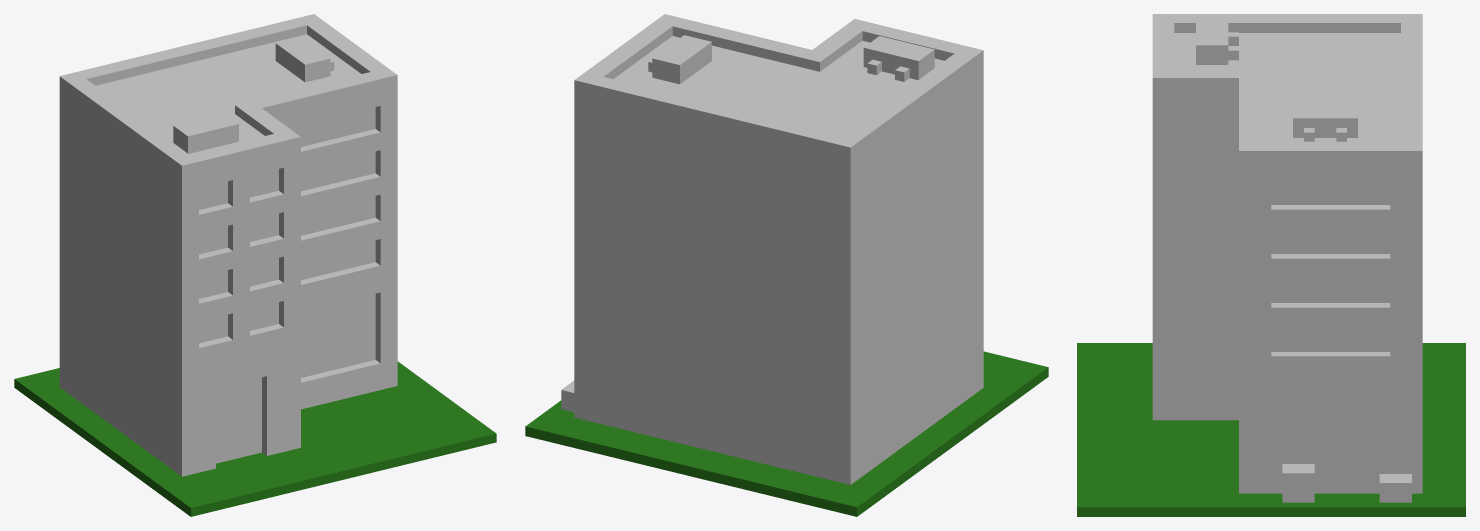
3 views of the same model, side by side, from view 1: azimuth 30°, elevation 25°; view 2: azimuth 150°, elevation 25°; view 3: azimuth 270°, elevation 25° (orthographic). The views are drawn at different scales.
Visible parts, largest first — view 1: building_3; view 2: building_3; view 3: building_3.
Boxes of the visible parts, x1=… form: building_3: x1=14, y1=14, x2=496, y2=516; building_3: x1=525, y1=14, x2=1048, y2=516; building_3: x1=1077, y1=14, x2=1465, y2=516.
Size of the model in its own units: 9 by 9.25 by 9.
